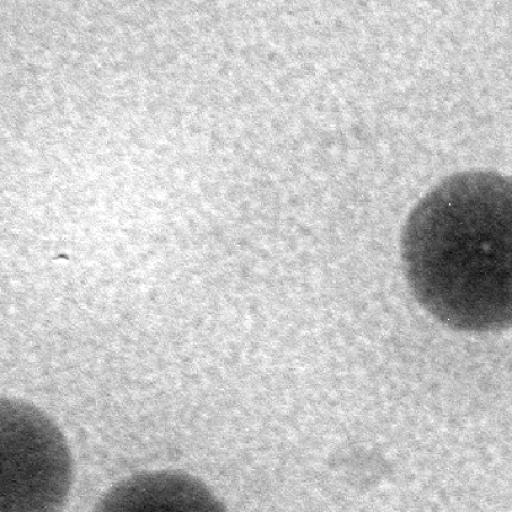Nanoparticles: (396, 165, 510, 332), (0, 389, 73, 512), (93, 468, 227, 510)
